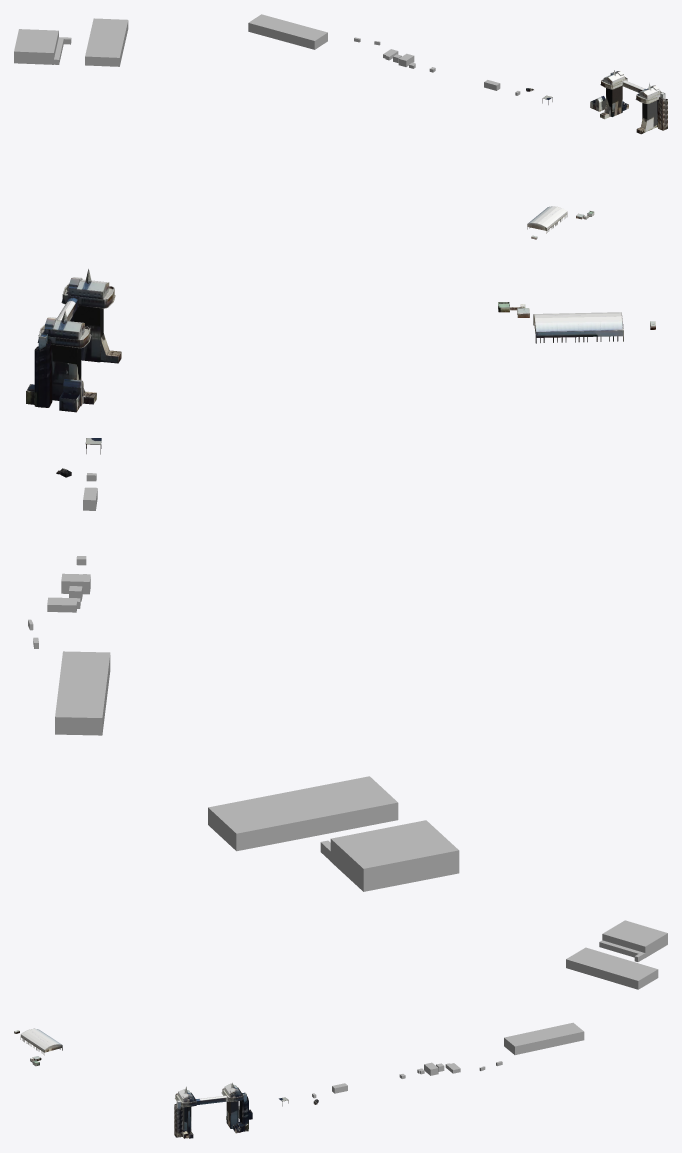
The model's file is station-0-0-packed.glb.
The picture shows the model from 3 angles, top to bottom: view 1: azimuth 30°, elevation 25°; view 2: azimuth 150°, elevation 25°; view 3: azimuth 270°, elevation 25°; orthographic projection. The views are drawn at different scales.
Size of the model in its own units: 446 by 45.89 by 602.
3 materials, 2 textured.
